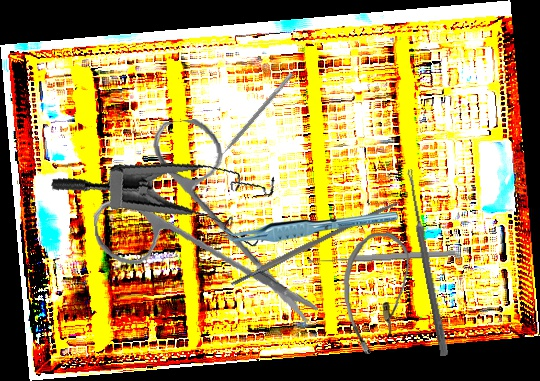Cannula: (340, 231, 416, 355)
Iris Scissors: (84, 108, 320, 343)
Scalpel Handle: (227, 198, 401, 288)
Spatula Surgical: (211, 68, 295, 164)
Speculum: (49, 134, 287, 284)
Surgical Spoon: (404, 168, 450, 357), (307, 249, 456, 265)
Tissue Forceps: (218, 210, 398, 243)
